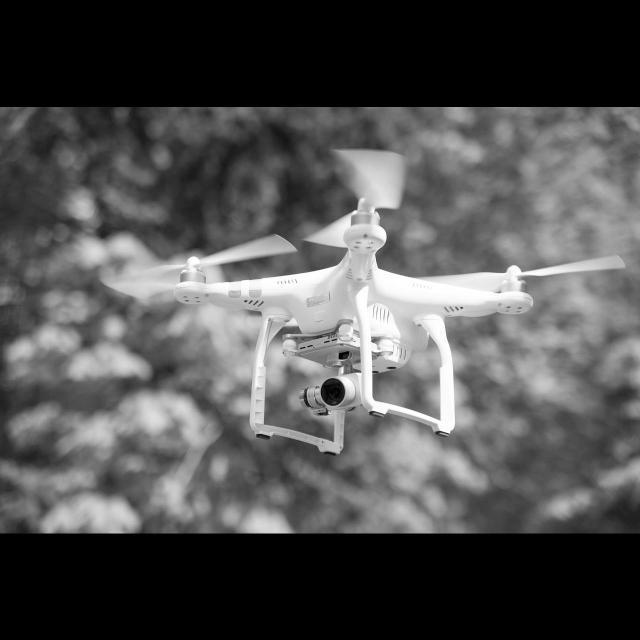Drons: (99, 146, 626, 455)
